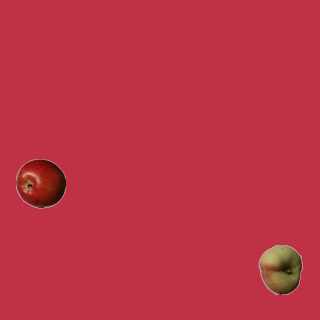Apple Braeburn: (15, 158, 65, 208)
Peach Flat: (255, 244, 305, 294)
